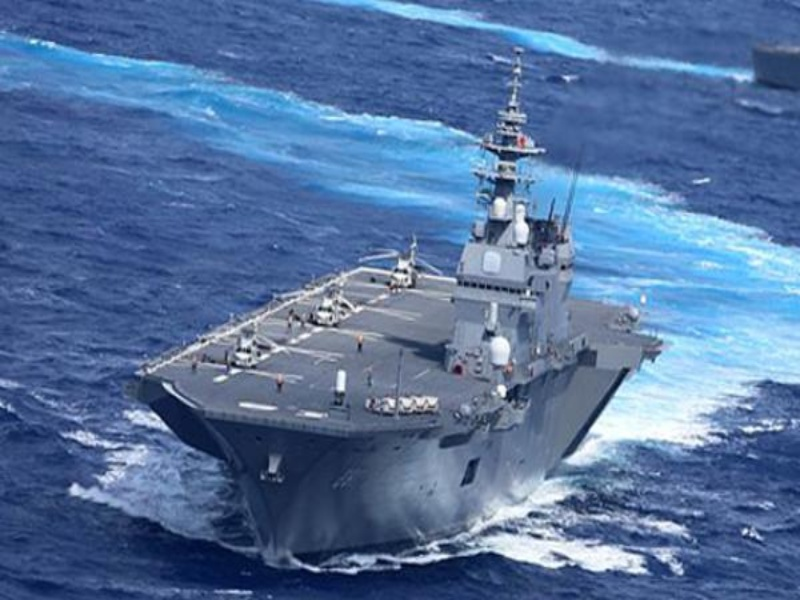carrier: (183, 77, 653, 561)
